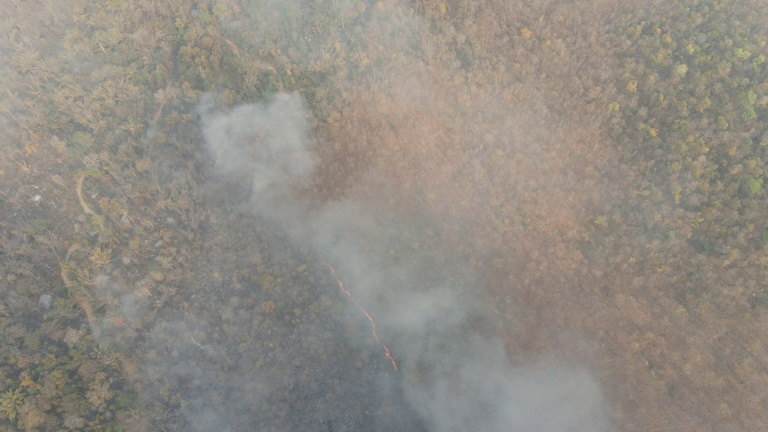fire: (315, 255, 403, 382)
smoke: (413, 302, 591, 432), (204, 102, 336, 227)
